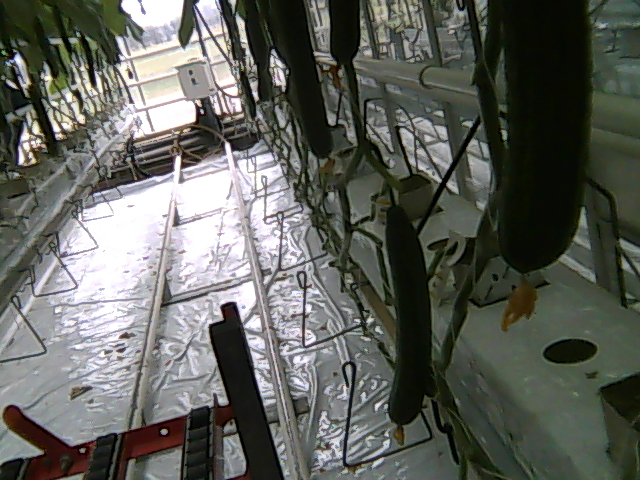concombre: (492, 1, 594, 335), (379, 196, 435, 451), (272, 1, 336, 174), (326, 1, 363, 78)
